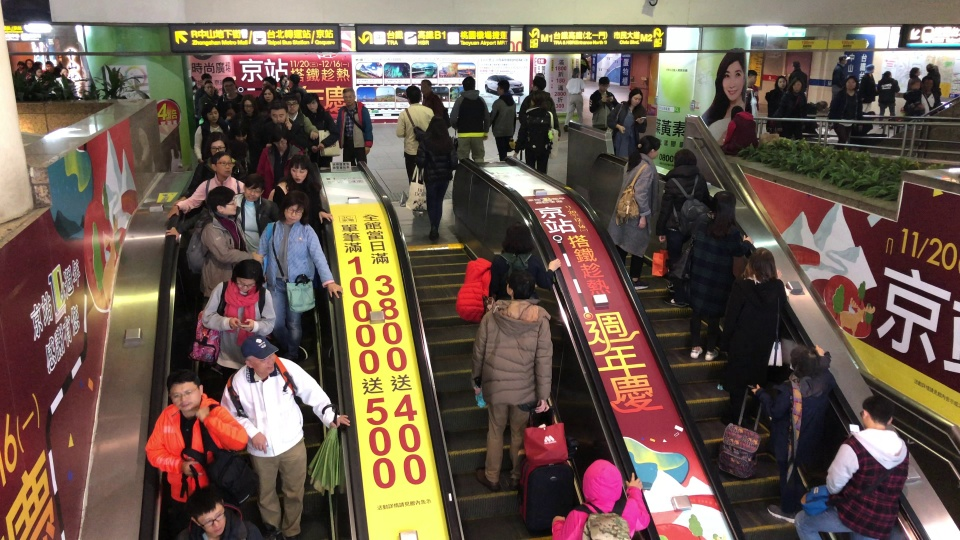person_head: (185, 484, 227, 536), (582, 457, 623, 505), (165, 367, 203, 412), (240, 333, 279, 376), (860, 394, 893, 430), (230, 258, 263, 293), (500, 221, 535, 253), (746, 246, 777, 282), (789, 344, 820, 379), (206, 185, 238, 217), (279, 190, 309, 224), (505, 268, 535, 301), (711, 189, 736, 221), (203, 130, 229, 158), (242, 173, 265, 203), (289, 154, 310, 184), (269, 123, 291, 151), (636, 135, 660, 160), (210, 151, 233, 177), (231, 115, 250, 144), (268, 99, 288, 124), (673, 148, 697, 167), (427, 115, 448, 135), (283, 92, 302, 114), (200, 102, 219, 123), (239, 94, 257, 114), (405, 85, 422, 104), (304, 92, 319, 112), (628, 87, 643, 107), (341, 86, 356, 105), (261, 75, 278, 91), (221, 76, 236, 94), (461, 75, 476, 92), (789, 77, 804, 93), (843, 75, 859, 90), (261, 85, 275, 102), (419, 78, 432, 96), (729, 105, 744, 120), (532, 75, 546, 91), (529, 91, 543, 107), (496, 79, 509, 96), (598, 75, 610, 93), (921, 75, 934, 91), (774, 75, 787, 90), (203, 80, 215, 95), (747, 69, 757, 85), (838, 53, 850, 66), (201, 73, 212, 86), (278, 74, 289, 87), (815, 100, 828, 111), (289, 73, 300, 85), (909, 78, 920, 90), (864, 63, 875, 74), (865, 110, 875, 121), (909, 67, 920, 77), (46, 60, 55, 72), (33, 67, 43, 77), (59, 67, 69, 77), (881, 70, 891, 80), (925, 63, 935, 73), (25, 58, 34, 69), (571, 67, 580, 78), (791, 60, 800, 70), (16, 60, 25, 68), (34, 60, 42, 69), (190, 75, 196, 87), (580, 53, 584, 57)
person_vbox: (219, 332, 351, 540), (468, 267, 554, 492), (143, 367, 249, 533), (793, 394, 910, 540), (753, 344, 840, 525), (258, 190, 343, 362), (726, 246, 797, 427), (682, 189, 754, 361), (198, 257, 276, 404), (164, 173, 279, 257), (655, 147, 711, 308), (606, 134, 660, 291), (550, 457, 651, 540), (196, 185, 264, 299), (172, 130, 247, 209), (487, 221, 561, 300), (166, 150, 244, 219), (415, 115, 458, 240), (174, 483, 264, 540), (268, 154, 334, 224), (518, 75, 561, 175), (395, 85, 434, 187), (255, 122, 305, 199), (449, 75, 490, 162), (513, 91, 554, 174), (335, 86, 374, 166), (606, 87, 647, 159), (303, 92, 340, 168), (255, 99, 308, 151), (827, 75, 862, 150), (193, 102, 230, 163), (490, 79, 516, 163), (719, 105, 759, 156), (778, 77, 807, 140), (588, 75, 619, 131), (284, 92, 319, 140), (562, 67, 585, 132), (876, 70, 900, 130), (848, 110, 887, 146), (239, 94, 268, 141), (764, 75, 787, 133), (216, 76, 244, 118), (193, 73, 218, 116), (830, 53, 851, 101), (921, 63, 942, 109), (255, 85, 282, 120), (419, 78, 444, 115), (858, 63, 876, 113), (197, 80, 220, 118), (902, 78, 925, 116), (50, 67, 78, 98), (805, 100, 828, 137), (921, 75, 937, 118), (744, 69, 758, 113), (789, 60, 808, 89), (287, 73, 307, 95), (906, 67, 920, 92), (42, 60, 61, 78), (275, 74, 290, 96), (28, 67, 46, 84), (580, 53, 591, 79), (190, 75, 197, 108), (14, 60, 27, 76)
